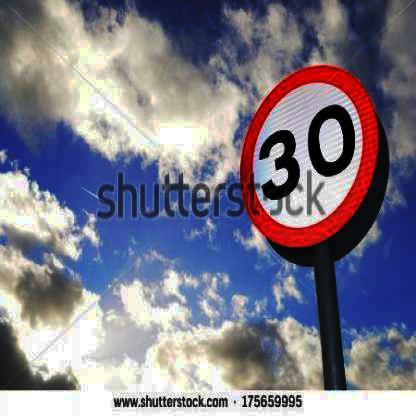Speed Limit -30-: (234, 66, 391, 254)
